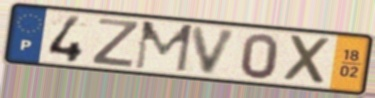0: (237, 31, 282, 81)
4: (45, 13, 86, 64)
M: (132, 20, 196, 75)
V: (189, 24, 242, 77)
X: (283, 32, 335, 87)
Z: (89, 16, 142, 69)
